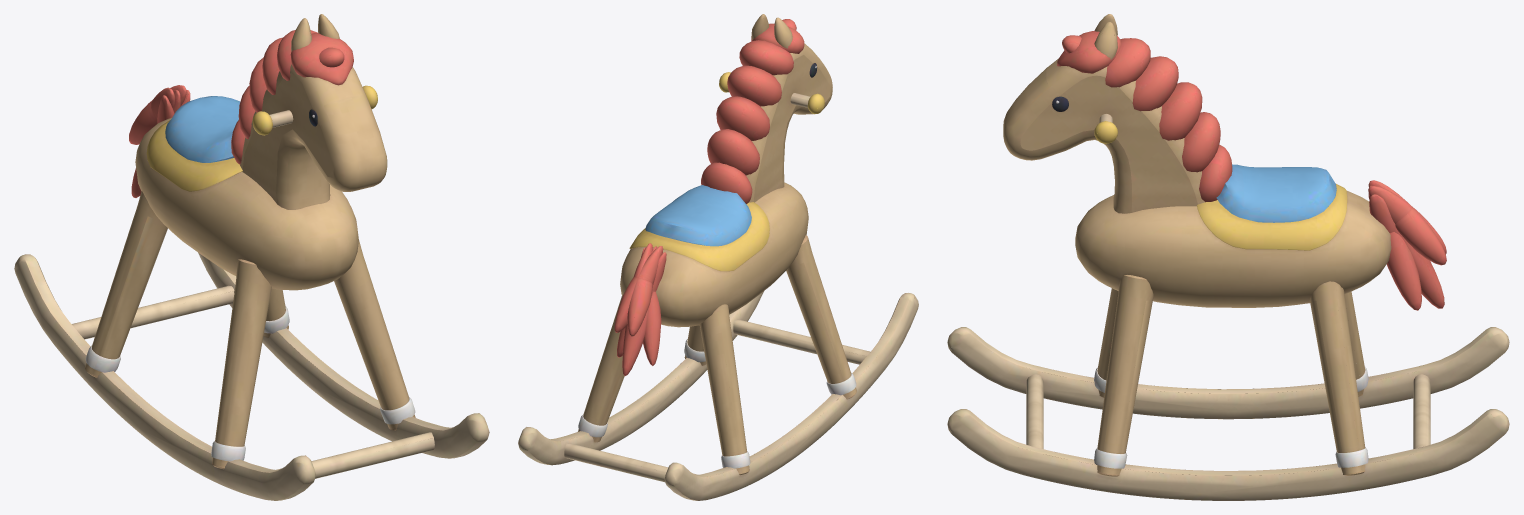
The model's file is caballito.glb.
The picture shows the model from 3 angles, left to right: view 1: azimuth 30°, elevation 25°; view 2: azimuth 150°, elevation 25°; view 3: azimuth 270°, elevation 25°; orthographic projection. The views are drawn at different scales.
Parts seen in each view (by area): view 1: rocking-horse_body; view 2: rocking-horse_body; view 3: rocking-horse_body.
Part boxes in pixels (x1,y1,x2,y2): rocking-horse_body: (14,14,489,500); rocking-horse_body: (518,14,918,500); rocking-horse_body: (947,14,1509,500).
Bounding box in the file's own units: 0.3924 × 0.8541 × 0.9877.
Materials: 1 (1 with a texture image).
